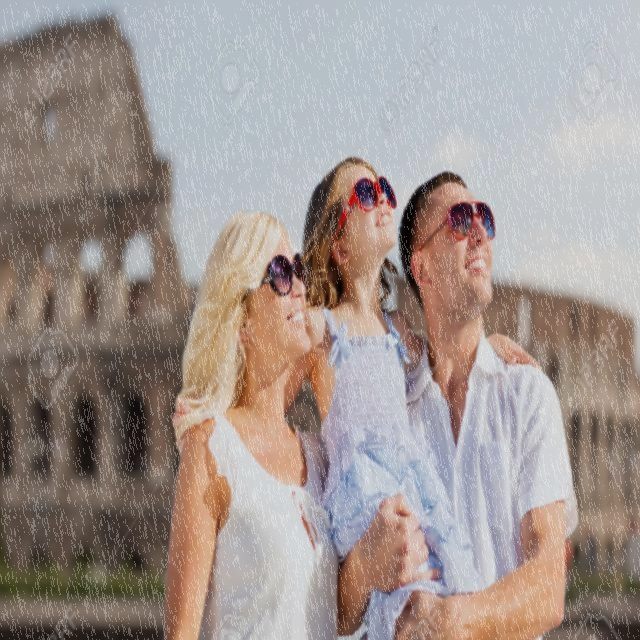pessoa: (168, 146, 546, 640), (336, 168, 582, 640), (162, 208, 340, 638), (564, 516, 638, 600)
